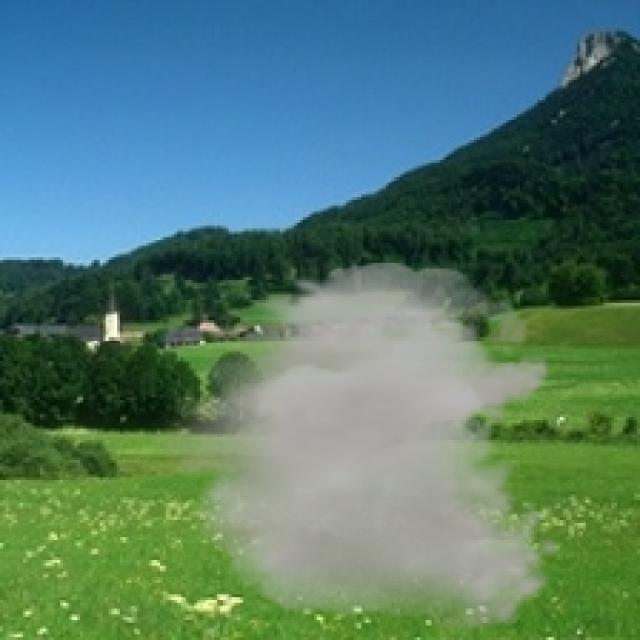smoke: (143, 263, 563, 631)
